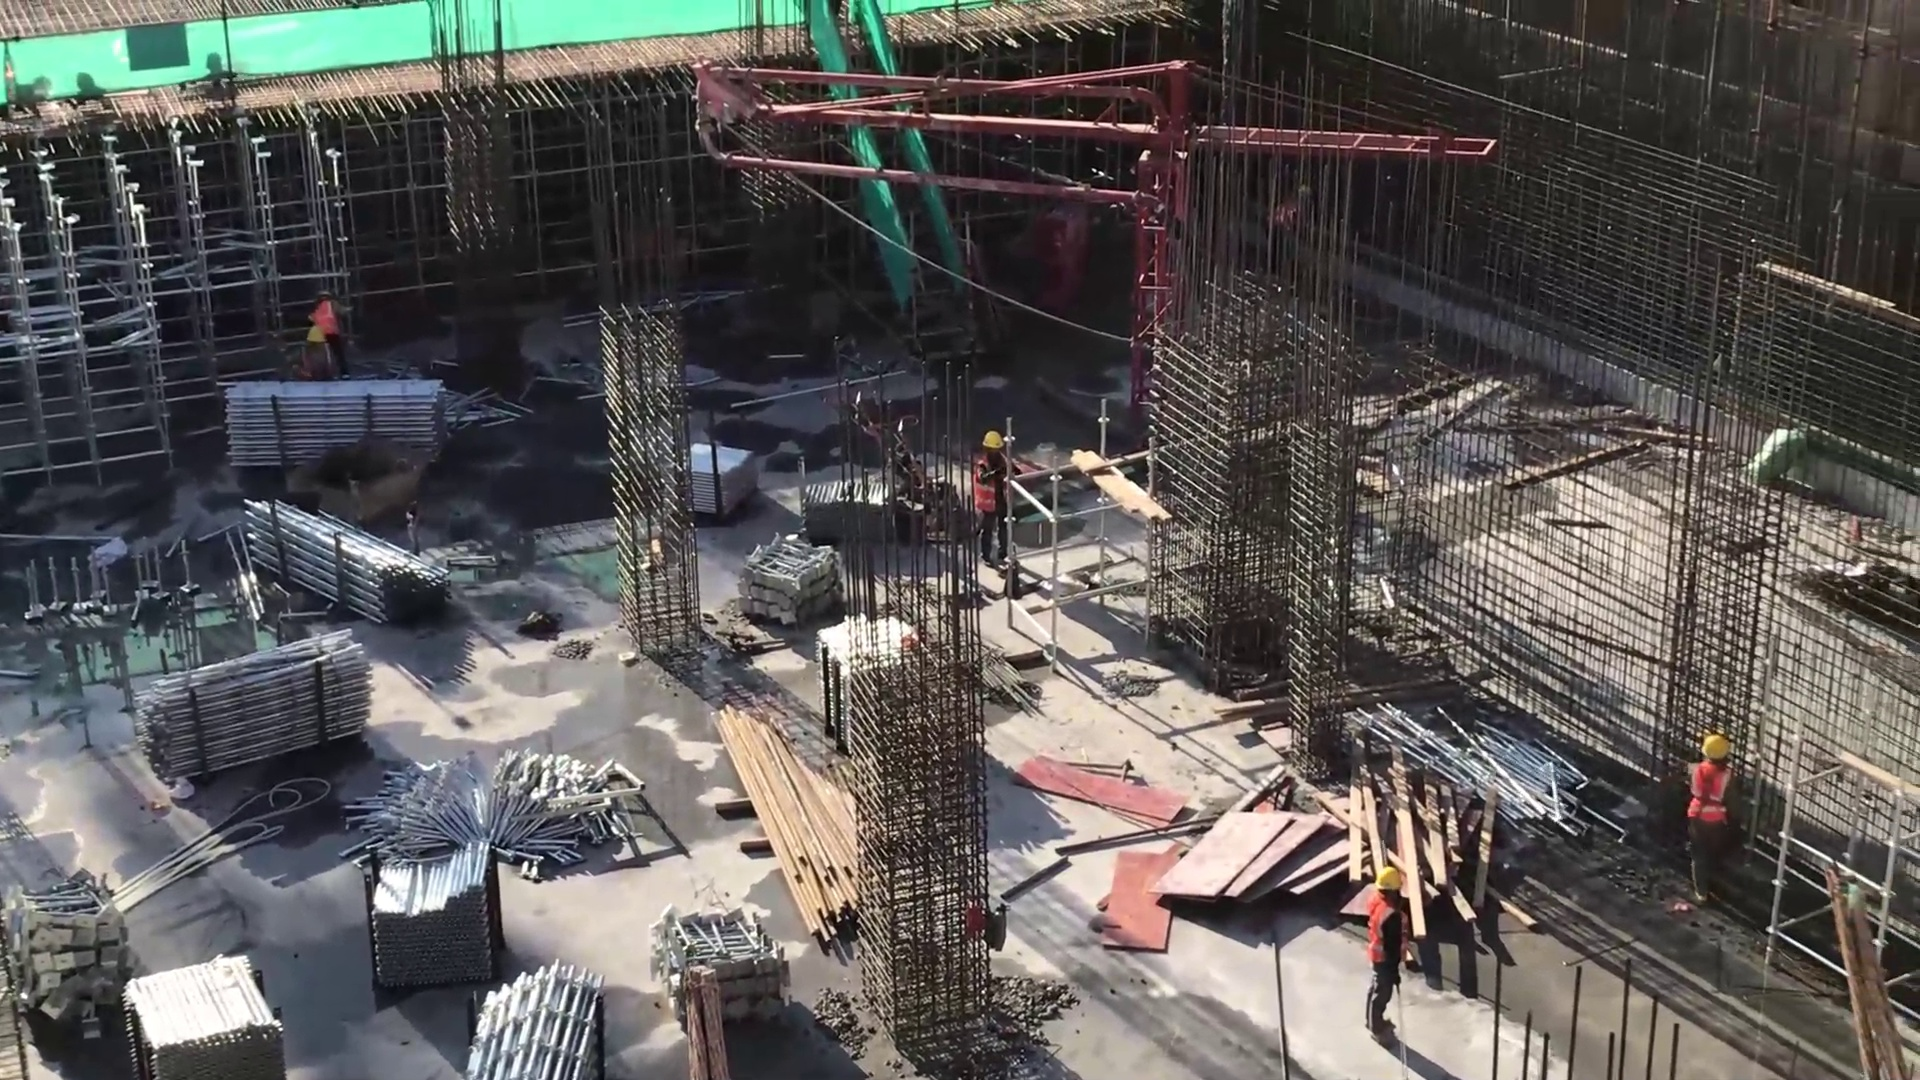board: (1165, 811, 1344, 908)
helmet: (1702, 739, 1728, 759), (1378, 868, 1402, 888), (982, 432, 1003, 446)
person: (1682, 731, 1735, 903), (1367, 868, 1406, 1038), (973, 418, 1017, 554), (306, 283, 356, 374), (293, 324, 331, 395)
scaffold: (142, 638, 377, 779), (247, 493, 436, 622), (1392, 707, 1593, 826), (228, 372, 463, 468), (373, 838, 498, 989), (132, 964, 289, 1066), (470, 979, 612, 1080), (800, 481, 904, 540), (690, 448, 759, 518), (811, 627, 849, 746)
vest: (1691, 763, 1730, 826), (977, 457, 1012, 515), (1372, 897, 1401, 963)
wood: (721, 700, 873, 938), (1347, 770, 1517, 920)
